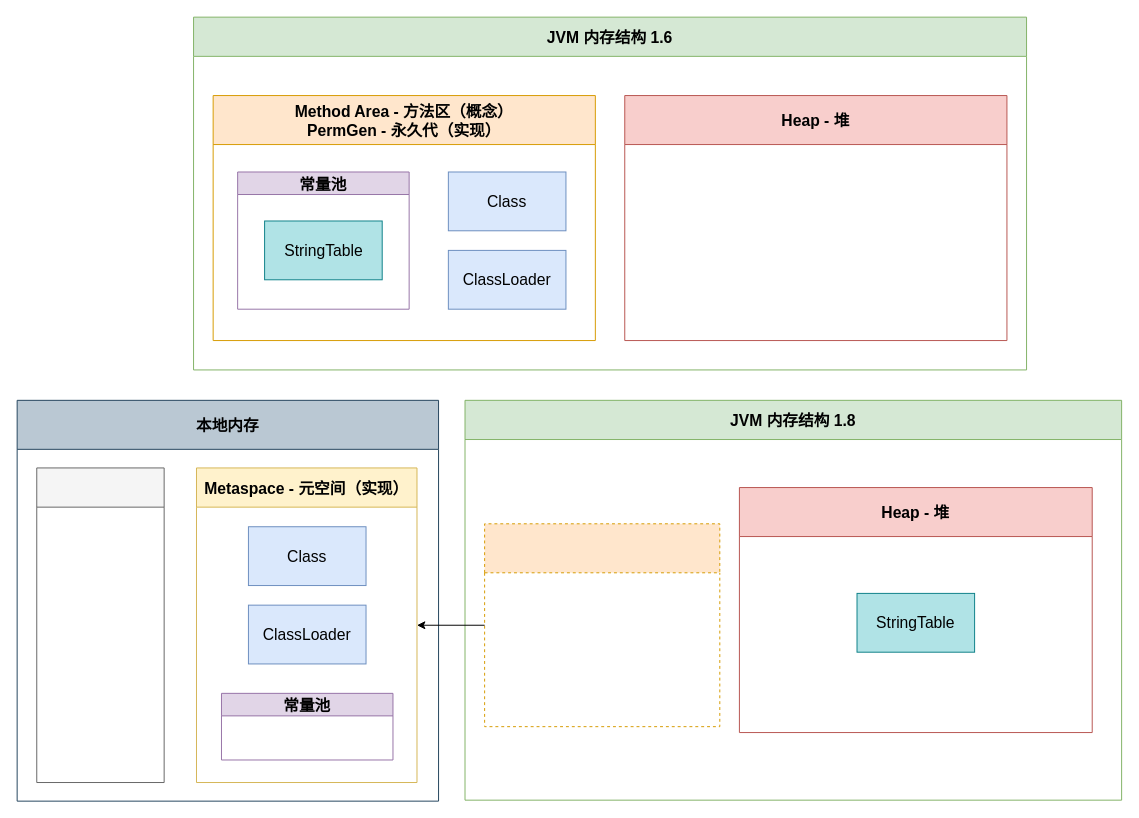
The diagram is 1139 pixels wide and 818 high, and some of its shapes have lost their labels. The centre of each missing label's shape, as x and y in pixels:
Method Area - 方法区（概念）: pixel 602 625
其他进程: pixel 100 625
